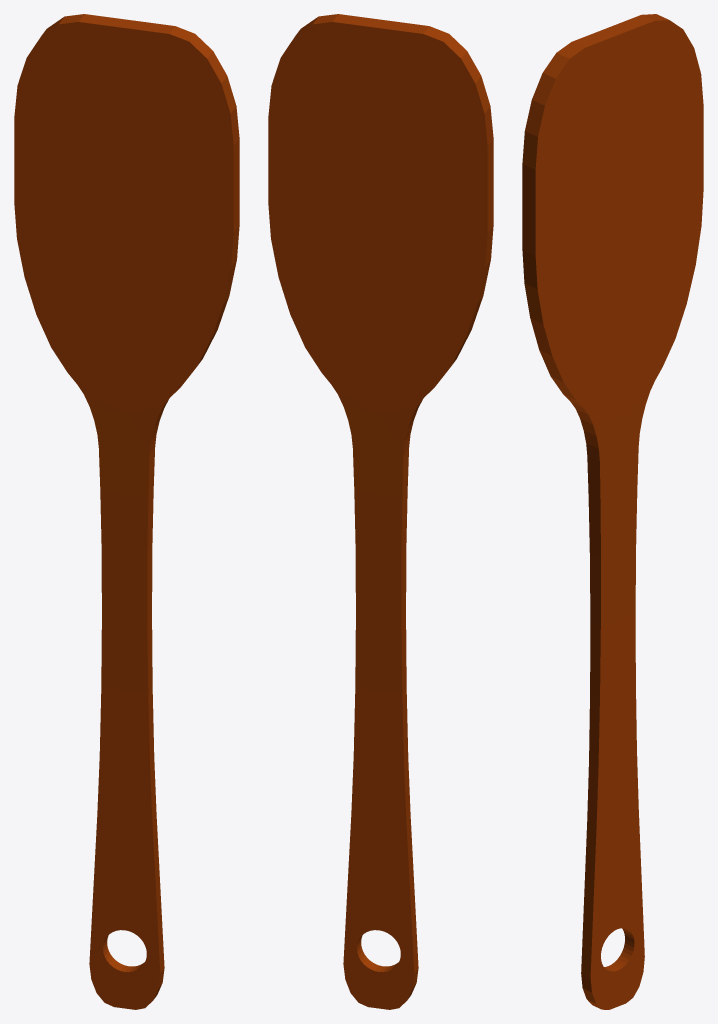
Rendered from ustensilwood_004.fbx.
3 renders of one model, left to right at view 1: azimuth 30°, elevation 25°; view 2: azimuth 210°, elevation 25°; view 3: azimuth 270°, elevation 25°, orthographic.
Visible parts, largest first — view 1: Cube.012; view 2: Cube.012; view 3: Cube.012.
Boxes of the visible parts, left/top/right/bottom form: Cube.012: left=14, top=14, right=239, bottom=1009; Cube.012: left=268, top=14, right=493, bottom=1009; Cube.012: left=522, top=14, right=703, bottom=1009.
Size of the model in its own units: 29.43 by 187 by 31.64.
